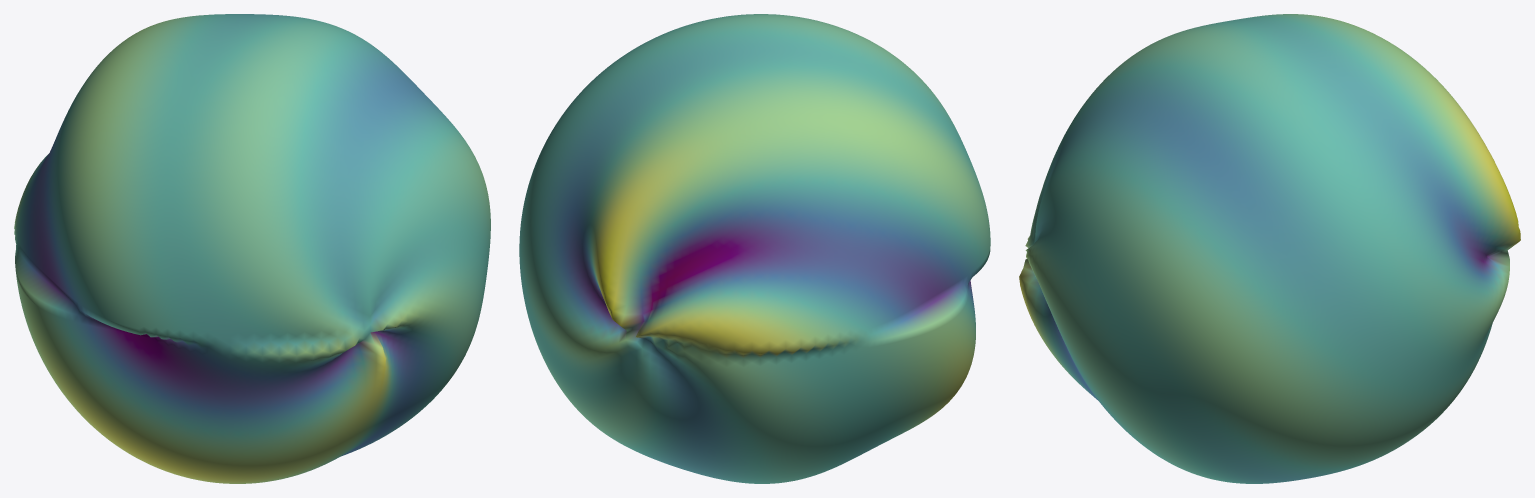
File: sphere_frame_0027.glb
3 renders of one model, left to right at view 1: azimuth 30°, elevation 25°; view 2: azimuth 150°, elevation 25°; view 3: azimuth 270°, elevation 25°, orthographic.
Visible parts, largest first — view 1: world; view 2: world; view 3: world.
Boxes of the visible parts, bbox=[...] form: world: bbox=[14, 14, 490, 483]; world: bbox=[519, 14, 990, 483]; world: bbox=[1019, 14, 1520, 483].
Bounding box in the file's own units: 2.2 × 2.15 × 2.3.
